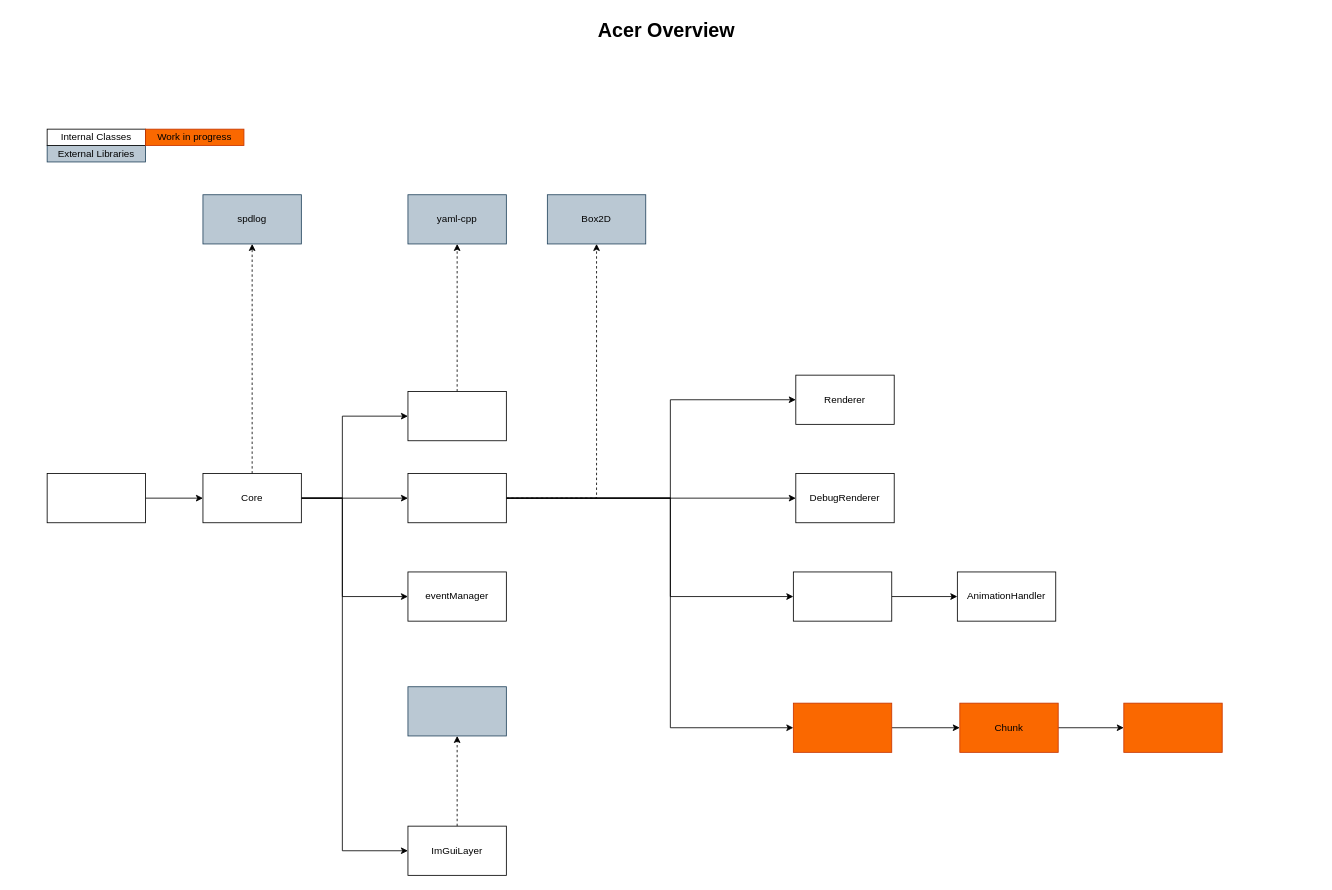
This 1332x890 diagram has some shape labels left out. The shapes that lost their labels are listed below. From the top down, each one's box as (x1, y1, x2, y2) in pixels, then its label:
(407, 391, 506, 441): SceneSerializer
(46, 473, 146, 523): main
(407, 473, 506, 523): Scene
(793, 571, 892, 621): SpriteHandler
(407, 686, 506, 736): ImGui-SFML
(793, 702, 892, 752): World
(1123, 702, 1222, 752): Cell
